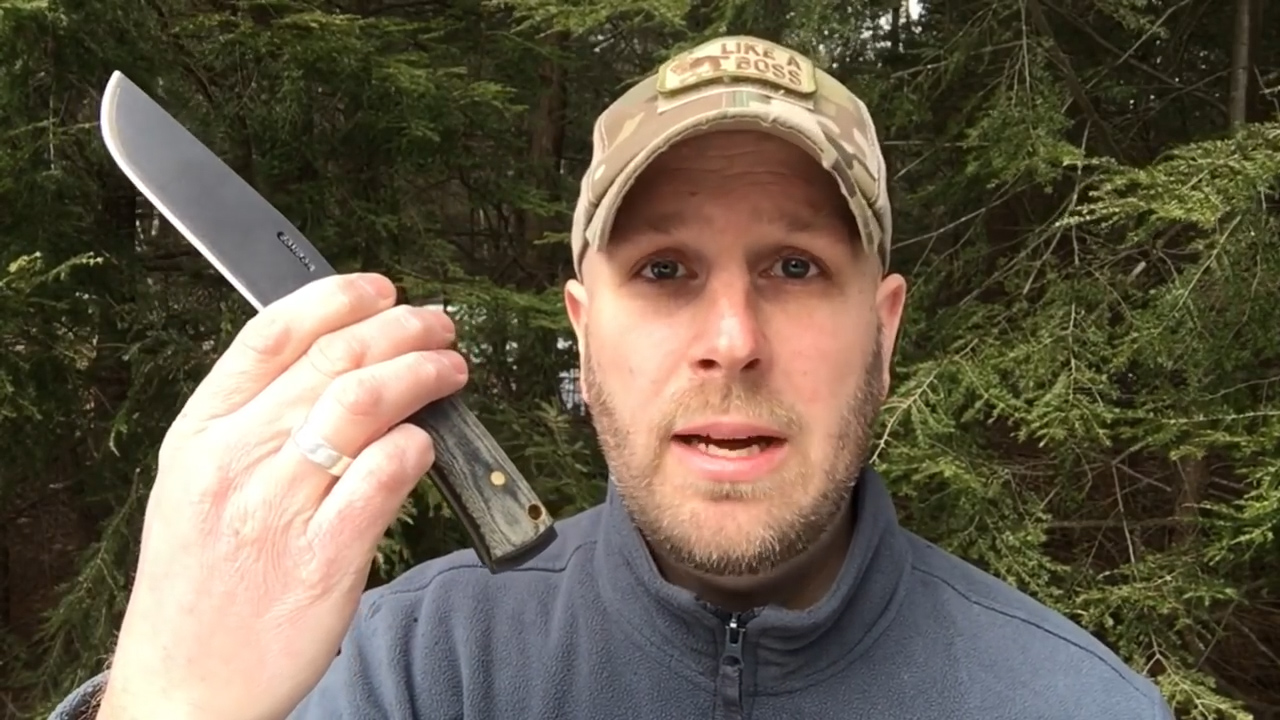knife: (86, 59, 474, 427)
